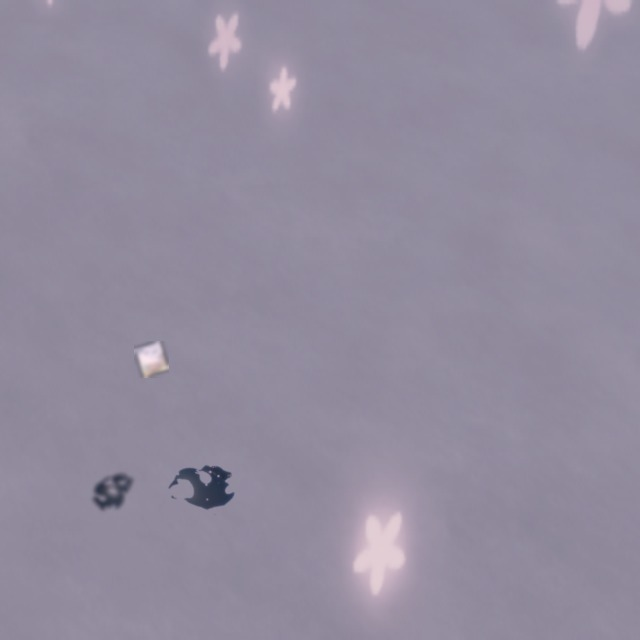urso_branco: (134, 341, 169, 378)
urso_preto: (155, 449, 251, 525), (86, 461, 144, 519)
